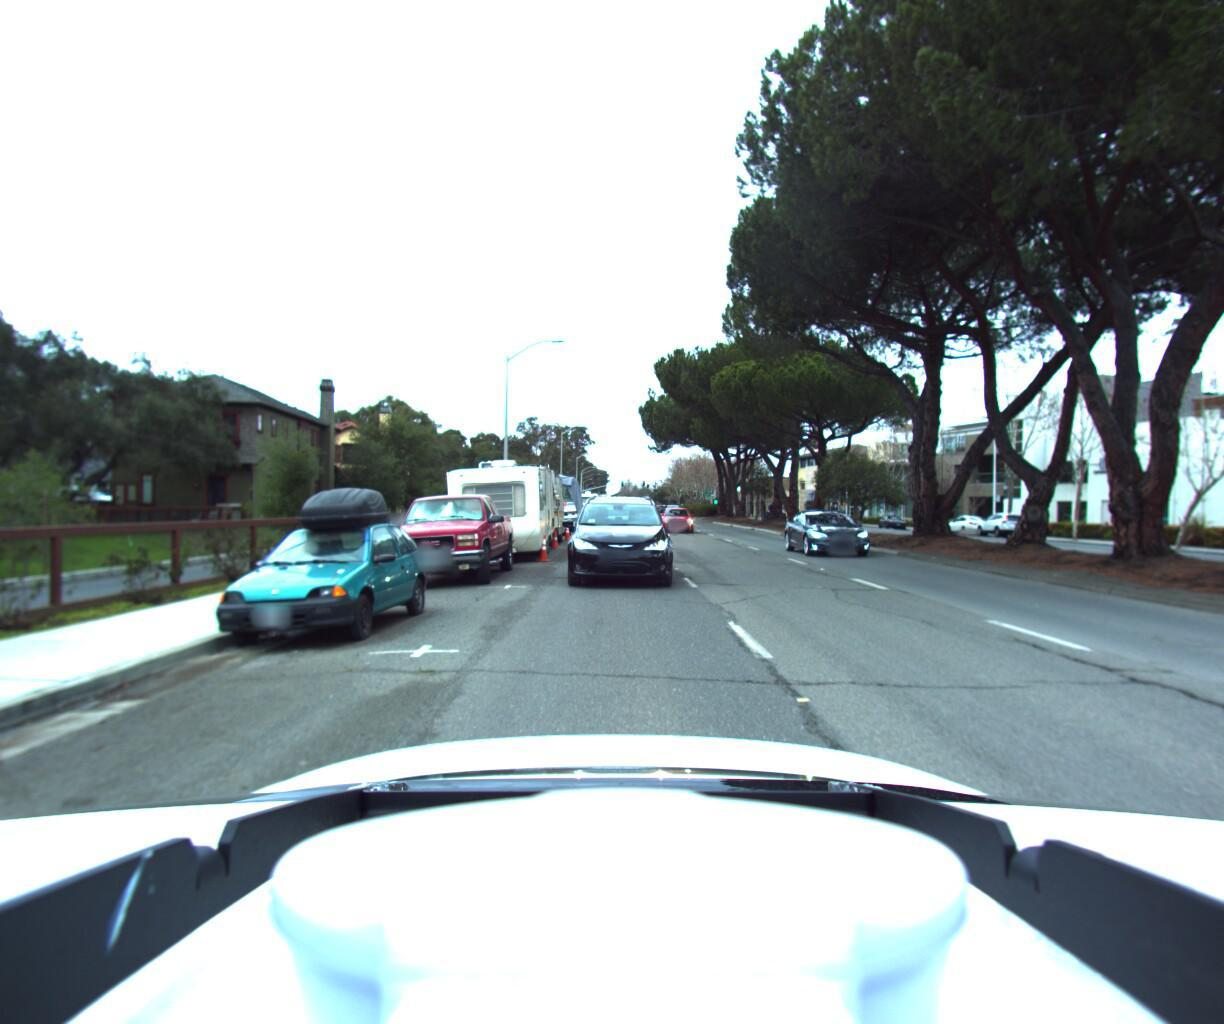car: (202, 476, 434, 653), (374, 488, 512, 589), (565, 490, 674, 589), (791, 505, 890, 556), (973, 511, 1030, 539), (942, 514, 992, 537), (660, 506, 698, 534)
other_vehicle: (434, 451, 558, 565), (482, 471, 565, 547), (523, 475, 582, 534)
